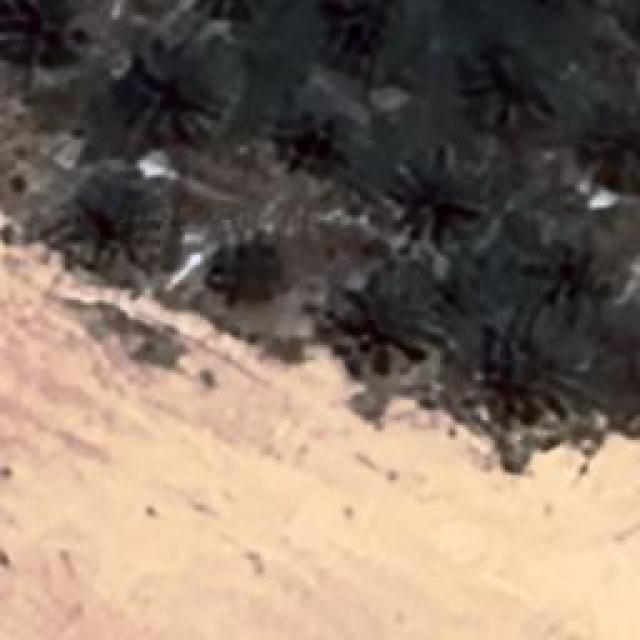PalmTree: (44, 40, 250, 271), (55, 164, 173, 278), (322, 270, 436, 372), (121, 42, 234, 138), (392, 145, 490, 240), (474, 330, 568, 425), (535, 220, 623, 310), (471, 38, 561, 124), (267, 98, 355, 182), (312, 0, 399, 72), (587, 106, 640, 186), (185, 0, 292, 21), (188, 0, 292, 12)
